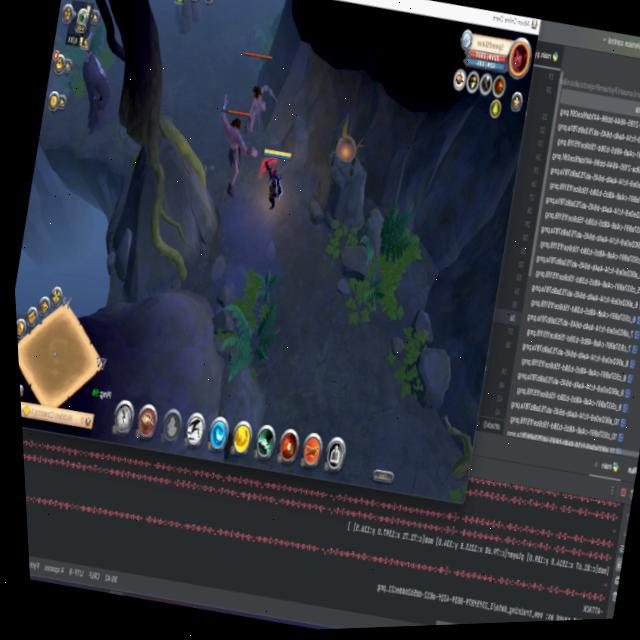ore: (199, 89, 274, 204), (60, 37, 128, 144), (224, 43, 291, 148), (167, 0, 208, 40)
red: (249, 139, 299, 217)
